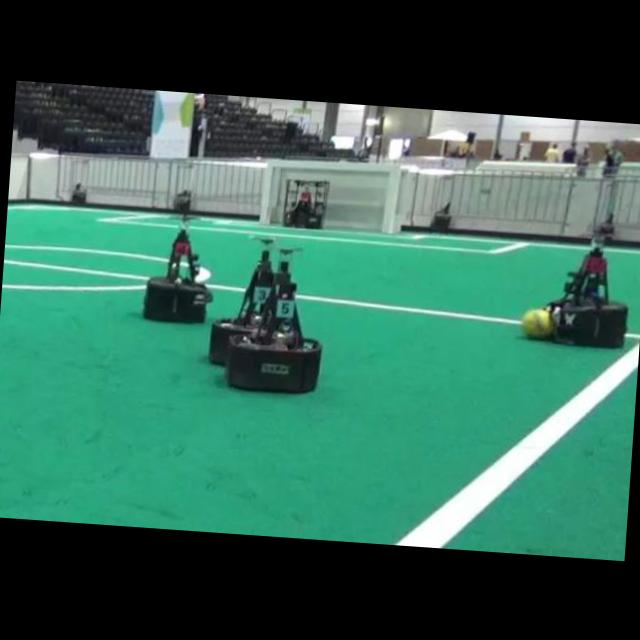ball: (521, 307, 552, 337)
goal: (381, 164, 401, 231), (258, 159, 274, 223)
robot: (227, 247, 322, 391), (208, 237, 273, 364), (549, 245, 626, 345), (143, 227, 211, 321), (282, 178, 328, 227)
